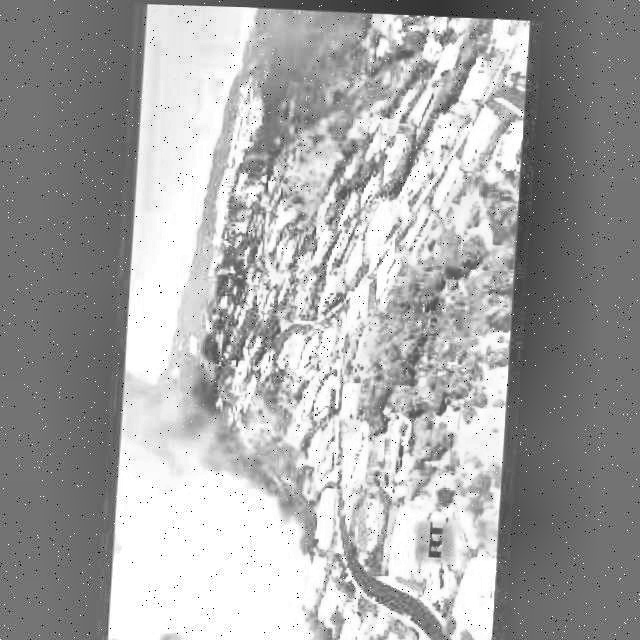Fire: (215, 417, 306, 521)
Smoke: (106, 358, 323, 640)
